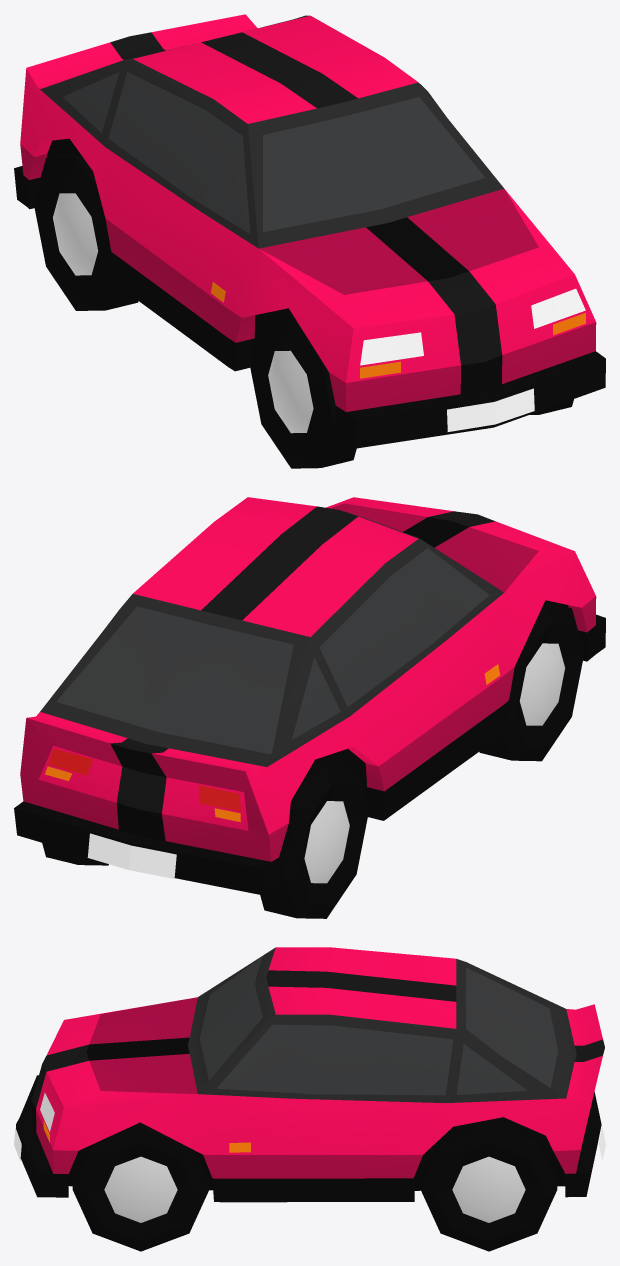
File: sedan_red_with_black_stripe.glb
3 renders of one model, top to bottom at view 1: azimuth 30°, elevation 25°; view 2: azimuth 150°, elevation 25°; view 3: azimuth 270°, elevation 25°, orthographic. The views are drawn at different scales.
Visible parts, largest first — view 1: Object_24; view 2: Object_24; view 3: Object_24.
Boxes of the visible parts, x1,y1,x2,y2 form: Object_24: [14, 14, 605, 468]; Object_24: [14, 497, 605, 918]; Object_24: [14, 947, 605, 1251].
Bounding box in the file's own units: 2.47 × 2.37 × 5.68.
Materials: 1 (1 with a texture image).
